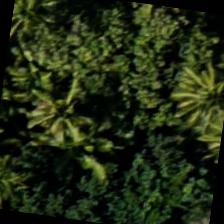Kelapa_Sawit: (23, 69, 125, 171), (158, 37, 223, 137)
